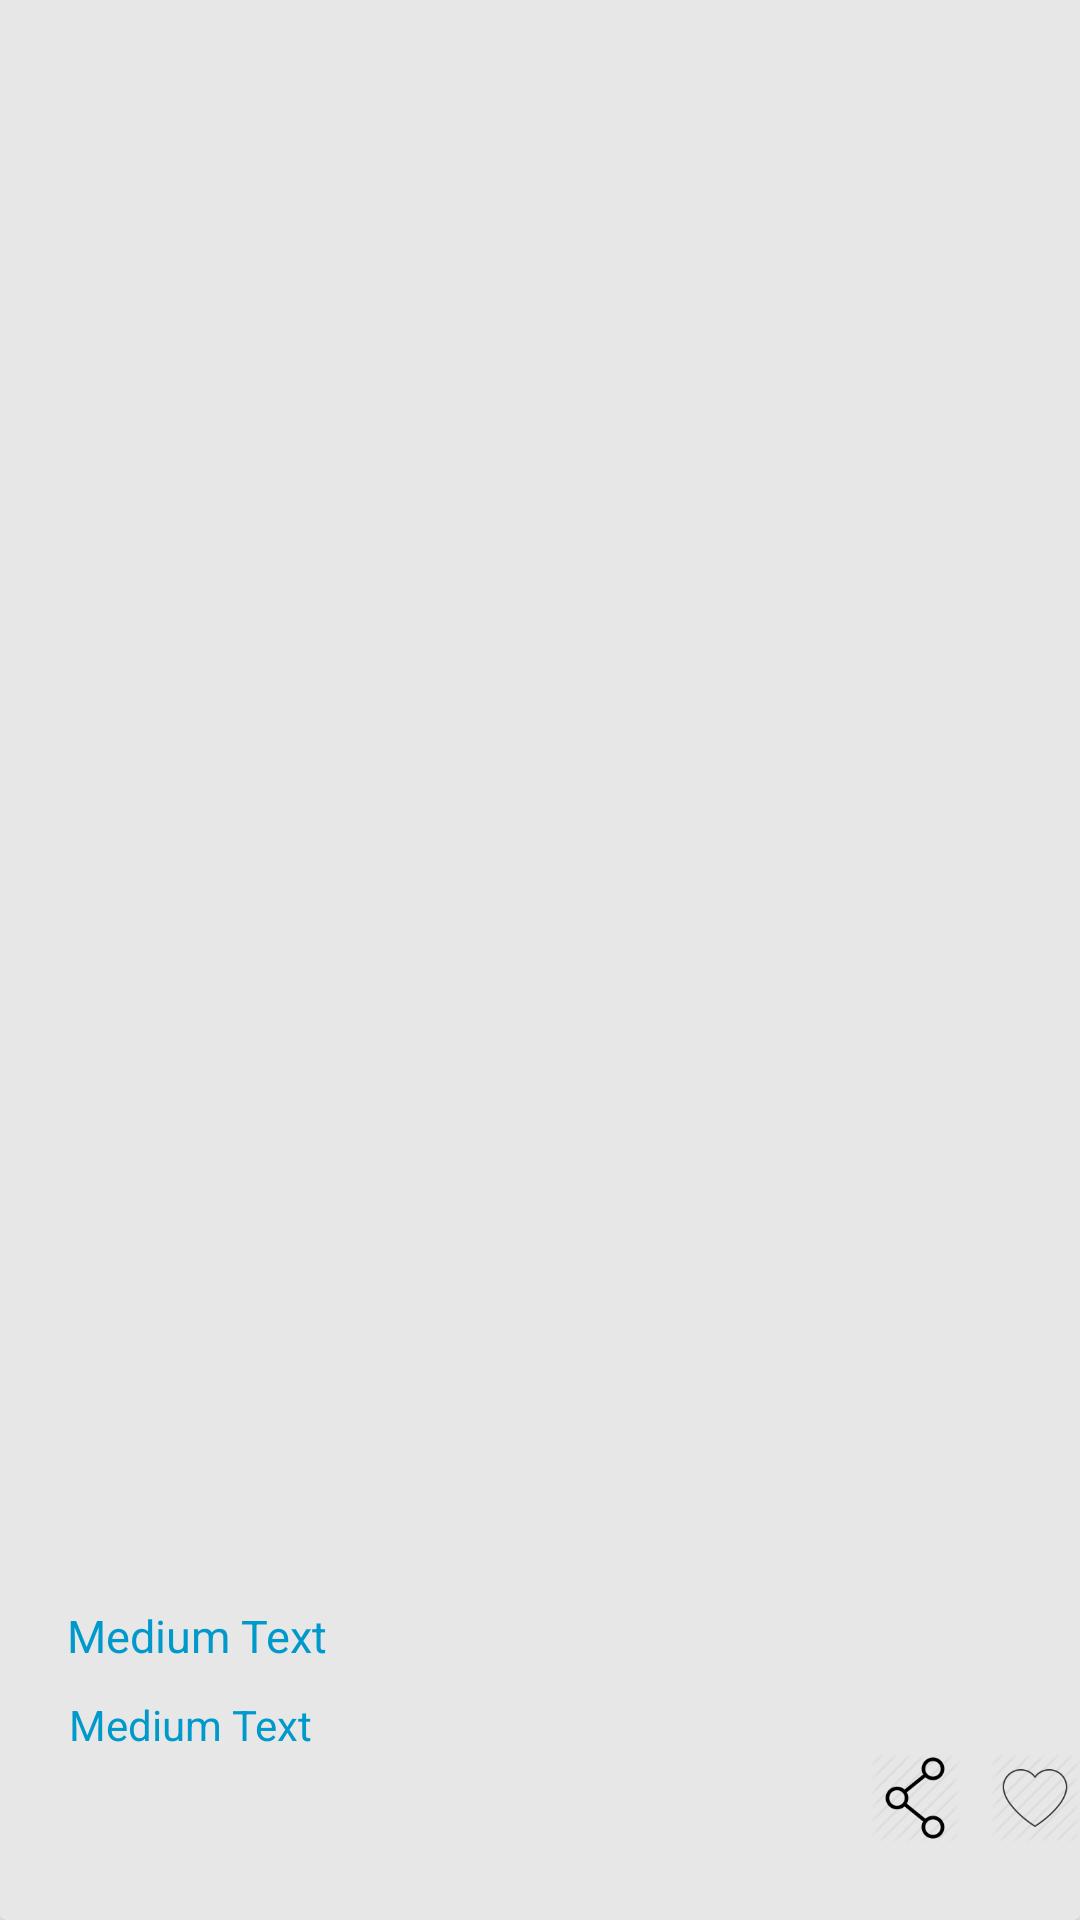

Screen size 1080 x 1920. Icon name, then its box in pixels as (x1, y1, x2, y2):
favorite: (1002, 1769, 1068, 1827)
share: (885, 1757, 945, 1839)
